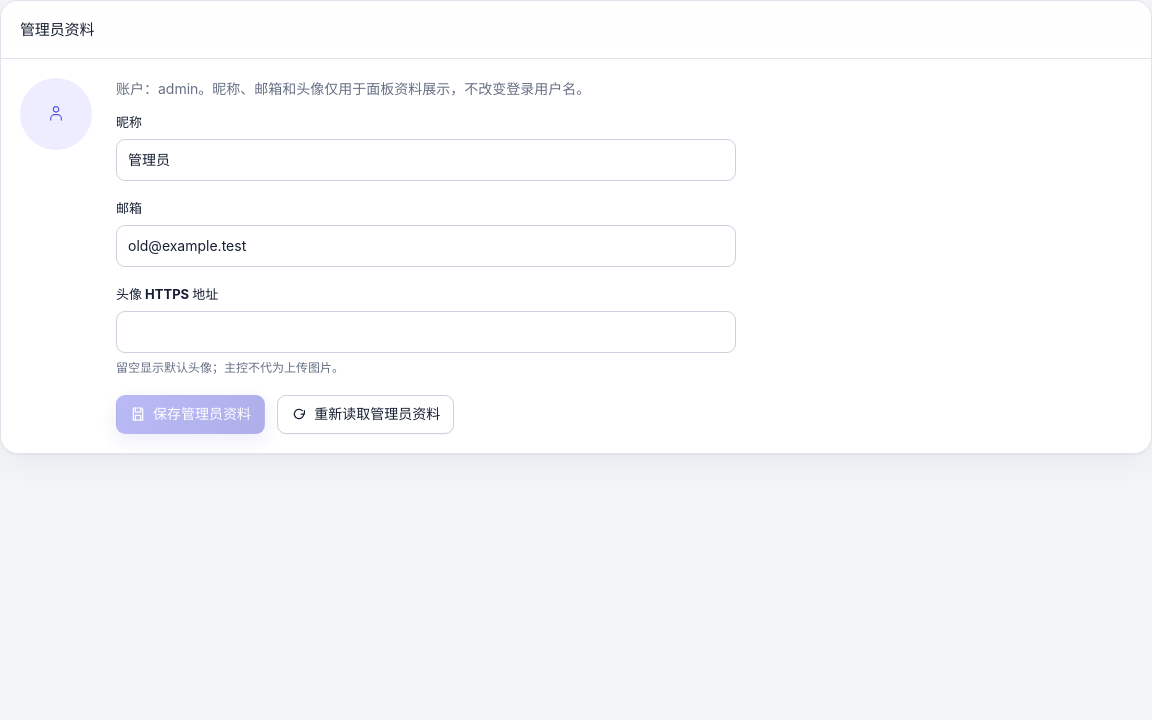
Test: administrator profile panel › re-reads an uncertain save without replaying it
Replace the text in the field labelled "昵称" with "草稿" at (426, 160), box [116,139,736,181]
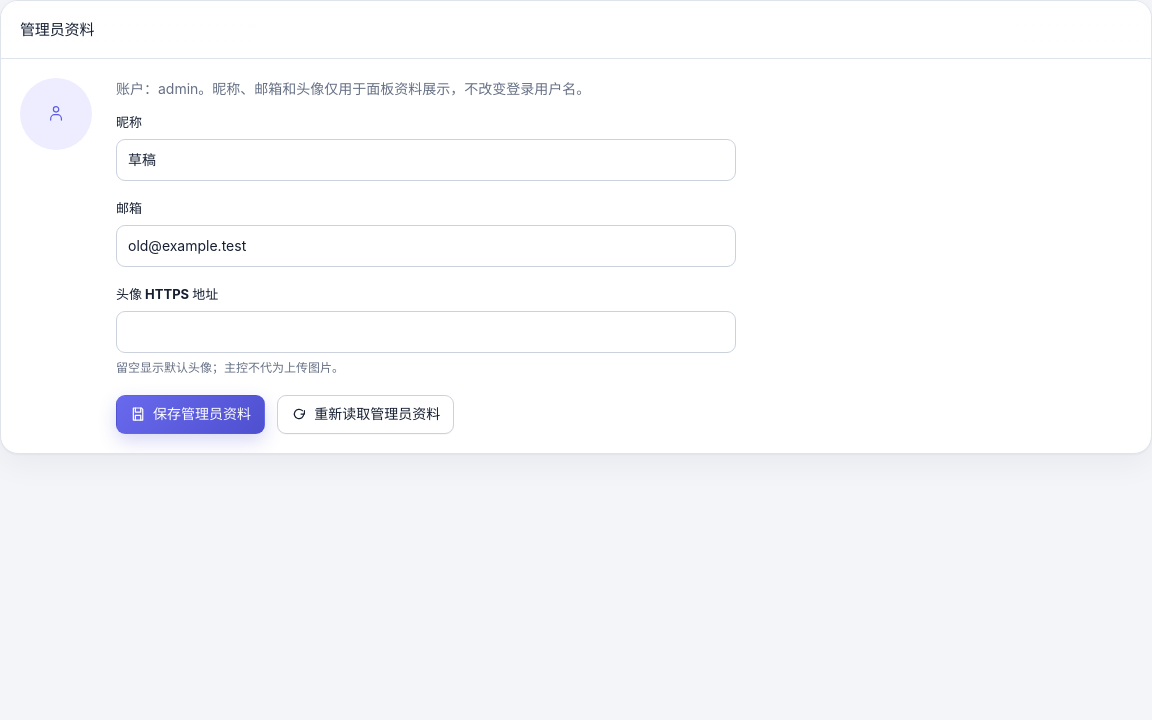
Click the button "保存管理员资料".
click(191, 414)  # box [116,395,265,434]
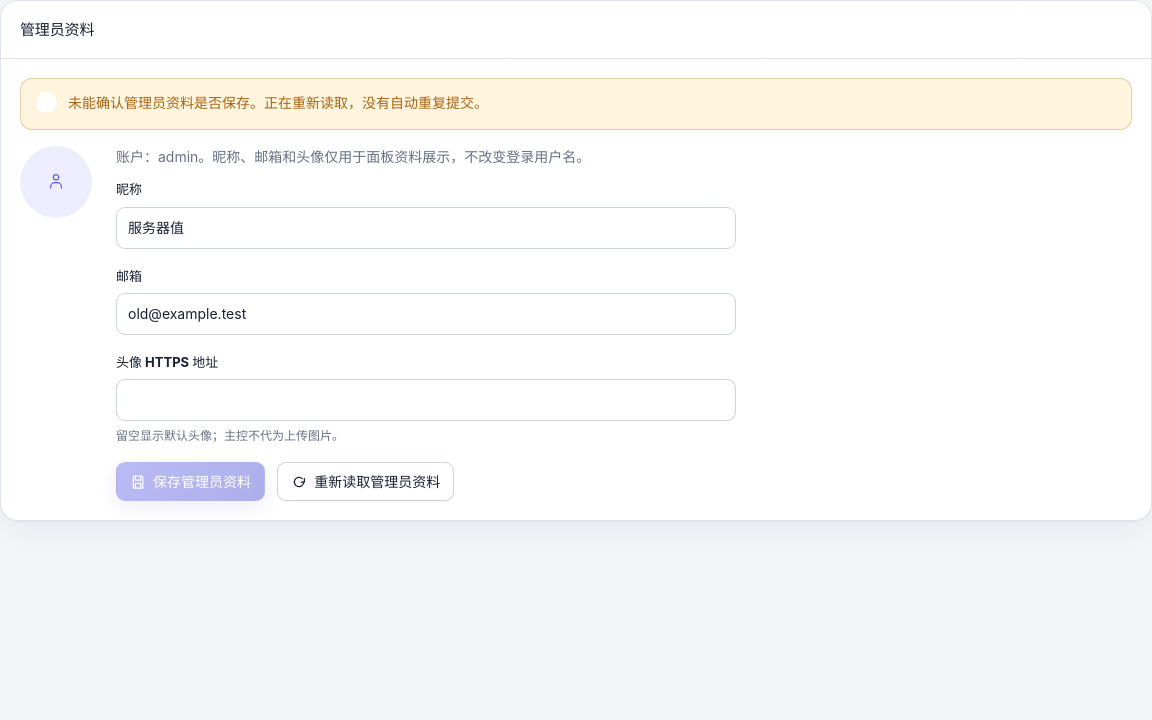
Check: the text "PRIVATE" is not shown
Check: the field labelled "昵称" holds "服务器值", box [116,206,736,248]
